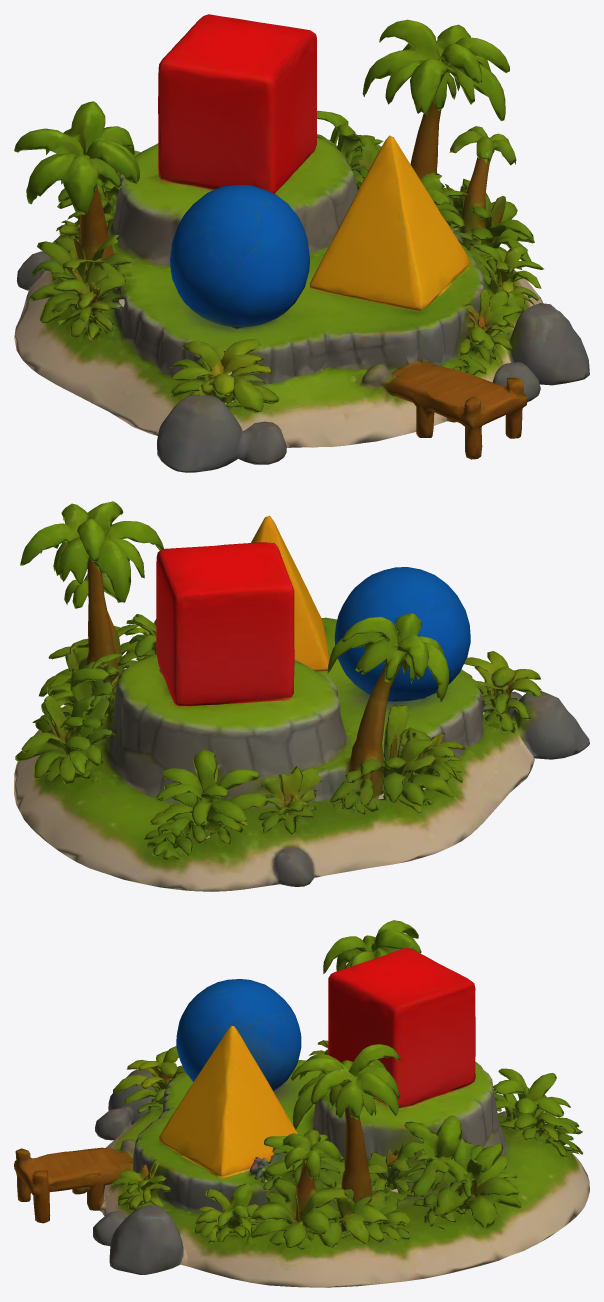
File: isl-01.glb
The picture shows the model from 3 angles, top to bottom: view 1: azimuth 30°, elevation 25°; view 2: azimuth 150°, elevation 25°; view 3: azimuth 270°, elevation 25°; orthographic projection. The views are drawn at different scales.
Visible parts, largest first — view 1: world; view 2: world; view 3: world.
Part boxes in pixels (box(x1,y1,x2,y2)): world: box(14, 14, 589, 472); world: box(14, 501, 589, 891); world: box(14, 920, 589, 1287).
Size of the model in its own units: 0.7928 by 0.4166 by 0.9987.
1 material, 1 textured.
